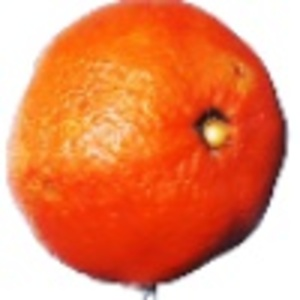tangerina: (4, 1, 289, 300)
